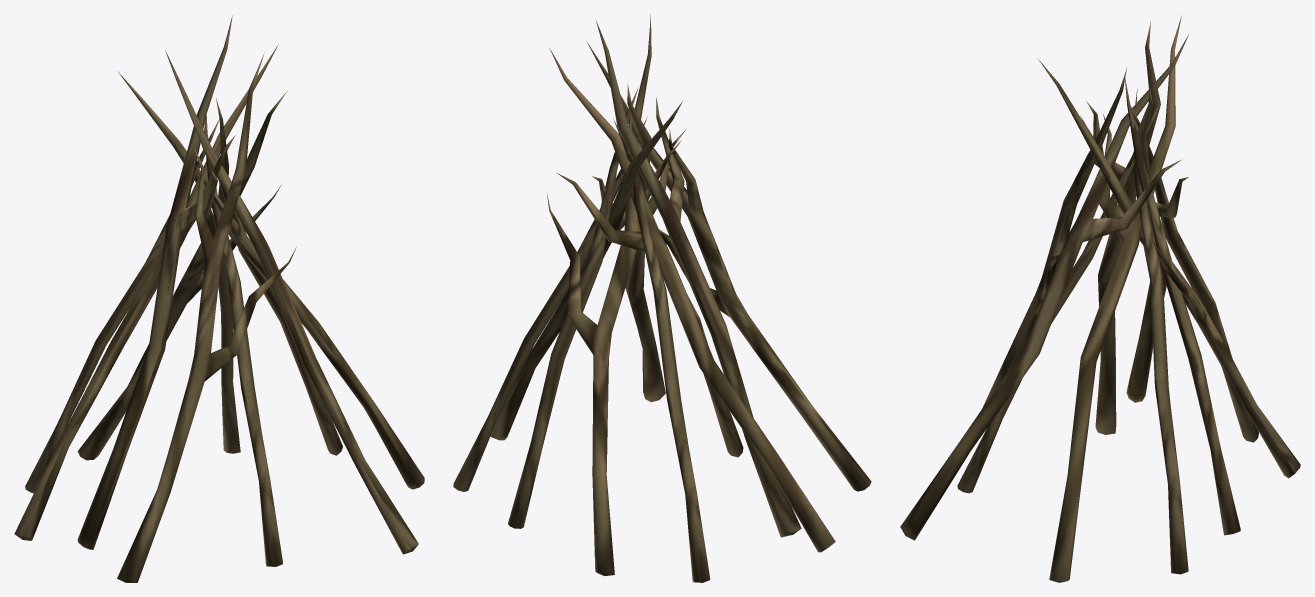
Rendered from Campfire09.fbx.
3 views of the same model, side by side, from view 1: azimuth 30°, elevation 25°; view 2: azimuth 150°, elevation 25°; view 3: azimuth 270°, elevation 25° (orthographic). The views are drawn at different scales.
Parts seen in each view (by area): view 1: Campfire09_LOD0; view 2: Campfire09_LOD0; view 3: Campfire09_LOD0.
Part boxes in pixels (x1=…): Campfire09_LOD0: x1=14, y1=15, x2=424, y2=582; Campfire09_LOD0: x1=453, y1=15, x2=871, y2=582; Campfire09_LOD0: x1=900, y1=15, x2=1300, y2=582.
Size of what is drawn, in the model's own units: 42.08 by 51.52 by 37.65.
